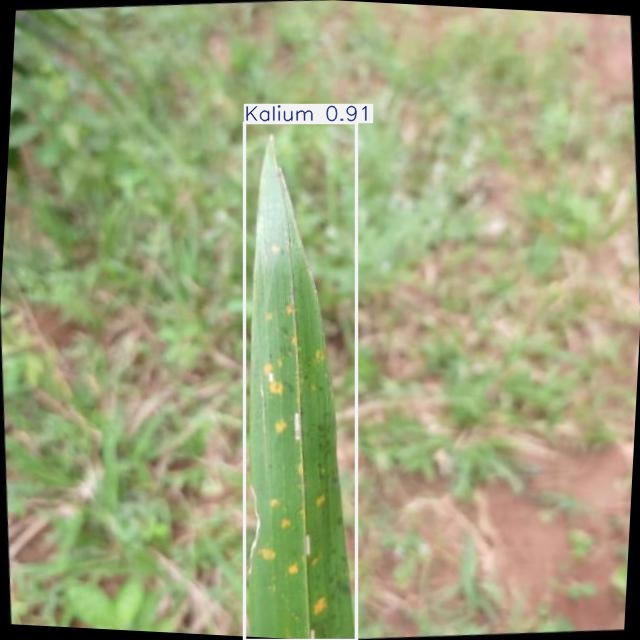Kalium: (245, 123, 357, 640)
